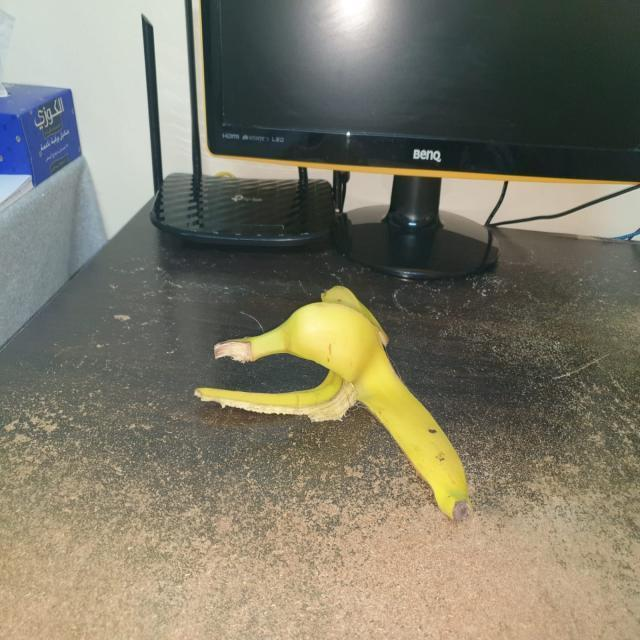banana-peel: (193, 283, 471, 522)
